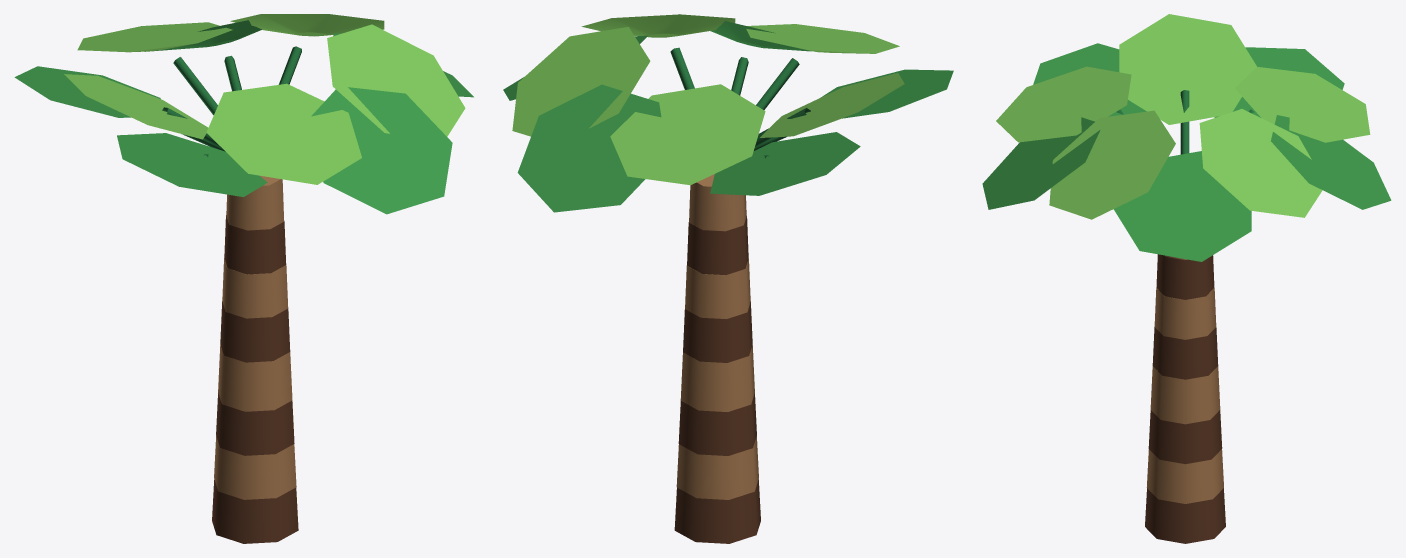
The model's file is palm-fan.glb.
3 views of the same model, side by side, from view 1: azimuth 30°, elevation 25°; view 2: azimuth 150°, elevation 25°; view 3: azimuth 270°, elevation 25° (orthographic). The views are drawn at different scales.
Parts seen in each view (by area): view 1: Mesh_leafLight, Mesh_leaf, Mesh_darkWood, Mesh_palmBark, Mesh_leafDark; view 2: Mesh_leafLight, Mesh_leaf, Mesh_darkWood, Mesh_palmBark, Mesh_leafDark; view 3: Mesh_leafLight, Mesh_leaf, Mesh_darkWood, Mesh_palmBark, Mesh_leafDark.
Part boxes in pixels (bbox=[...]): Mesh_leafLight: bbox=[64, 14, 465, 184]; Mesh_leaf: bbox=[14, 20, 473, 214]; Mesh_darkWood: bbox=[212, 215, 298, 543]; Mesh_palmBark: bbox=[214, 175, 296, 499]; Mesh_leafDark: bbox=[162, 46, 301, 157]; Mesh_leafLight: bbox=[512, 14, 904, 185]; Mesh_leaf: bbox=[503, 14, 953, 212]; Mesh_darkWood: bbox=[674, 216, 760, 543]; Mesh_palmBark: bbox=[676, 174, 758, 499]; Mesh_leafDark: bbox=[670, 47, 810, 158]; Mesh_leafLight: bbox=[996, 14, 1370, 219]; Mesh_leaf: bbox=[982, 43, 1391, 261]; Mesh_darkWood: bbox=[1145, 254, 1225, 543]; Mesh_palmBark: bbox=[1146, 255, 1223, 503]; Mesh_leafDark: bbox=[1117, 90, 1253, 154].
Bounding box in the file's own units: 3.19 × 3.83 × 3.23.
